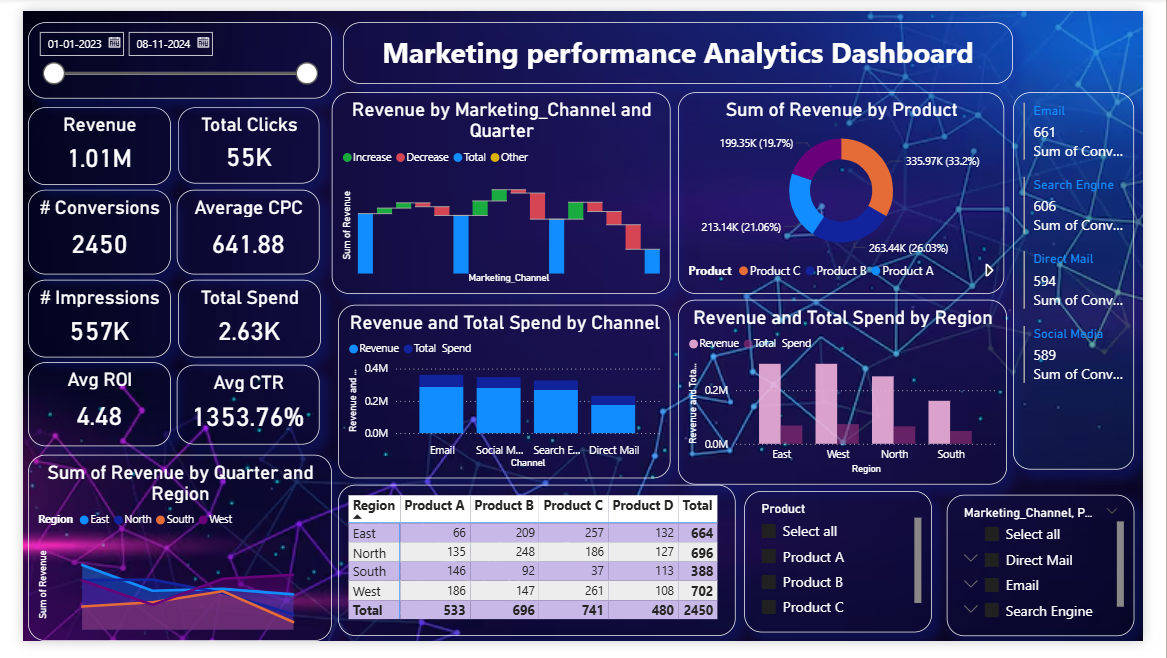

What the dashboard file says about the page in this screenshot:
{"tool":"powerbi","page":{"name":"Page 1","canvas":[1280,720],"ordinal":0},"visuals":[{"type":"card","title":"Total Clicks","fields":{"Values":["Sum(Sheet1.Clicks)"]},"box":[177.1,110,161.4,87.1],"z":0},{"type":"card","title":"# Conversions","fields":{"Values":["Sum(Sheet1.Conversions)"]},"box":[5.7,204.3,162.9,97.1],"z":1000},{"type":"card","title":"Average CPC","fields":{"Values":["Sum(Sheet1.CPC)"]},"box":[175.7,204.3,162.9,97.1],"z":2000},{"type":"card","title":"# Impressions","fields":{"Values":["Sum(Sheet1.Impressions)"]},"box":[5.7,307.1,162.9,88.6],"z":3000},{"type":"card","title":"Revenue","fields":{"Values":["Sum(Sheet1.Revenue)"]},"box":[5.7,110,162.9,88.6],"z":4000},{"type":"card","title":"Total Spend","fields":{"Values":["Avg(Sheet1.Spend)"]},"box":[177.1,307.1,162.9,88.6],"z":5000},{"type":"card","title":"Avg ROI","fields":{"Values":["Avg(Sheet1.ROI)"]},"box":[5.7,401.4,162.9,95.7],"z":6000},{"type":"card","title":"Avg CTR","fields":{"Values":["Sum(Sheet1.CTR)"]},"box":[175.7,404.3,162.9,91.4],"z":7000},{"type":"textbox","box":[365.7,12.9,765.7,70],"z":8000},{"type":"slicer","fields":{"Values":["Sheet1.Date"]},"box":[5.7,12.9,347.1,87.1],"z":9000},{"type":"waterfallChart","title":"Revenue by Marketing_Channel and Quarter","fields":{"Category":["Sheet1.Marketing_Channel"],"Y":["Sum(Sheet1.Revenue)"],"Breakdown":["Sheet1.Quarter"]},"box":[352.9,92.9,387.1,230],"z":10000},{"type":"donutChart","fields":{"Category":["Sheet1.Product"],"Y":["Sum(Sheet1.Revenue)"]},"box":[748.6,92.9,372.9,230],"z":11000},{"type":"columnChart","fields":{"Category":["Sheet1.Marketing_Channel"],"Y":["Sum(Sheet1.Revenue)","Sum(Sheet1.Spend)"]},"box":[360,335.7,380,198.6],"z":12000},{"type":"clusteredColumnChart","fields":{"Category":["Sheet1.Region"],"Y":["Sum(Sheet1.Revenue)","Sum(Sheet1.Spend)"]},"box":[748.6,330,375.7,211.4],"z":13000},{"type":"areaChart","fields":{"Y":["Sum(Sheet1.Revenue)"],"Series":["Sheet1.Region"],"Category":["Sheet1.Date.Variation.Date Hierarchy.Quarter"]},"box":[5.7,507.1,347.1,212.9],"z":14000},{"type":"multiRowCard","fields":{"Values":["Sum(Sheet1.Conversions)","Sheet1.Marketing_Channel"]},"box":[1131.4,92.9,138.6,431.4],"z":15000},{"type":"pivotTable","fields":{"Rows":["Sheet1.Region"],"Columns":["Sheet1.Product"],"Values":["Sum(Sheet1.Conversions)"]},"box":[360,541.4,454.3,172.9],"z":16000},{"type":"slicer","fields":{"Values":["Sheet1.Product"]},"box":[824.3,548.6,214.3,161.4],"z":17000},{"type":"slicer","fields":{"Values":["Sheet1.Marketing_Channel","Sheet1.Product"]},"box":[1055.7,552.9,214.3,161.4],"z":18000}]}

Visuals, with their boxes in screenshot pixels (x1, y1, x2, y2), scaled from the page's 1280x720 canvas onto the 1167x658 screenshot:
"Total Clicks" card: 161, 101, 309, 180
"# Conversions" card: 5, 187, 154, 275
"Average CPC" card: 160, 187, 309, 275
"# Impressions" card: 5, 281, 154, 362
"Revenue" card: 5, 101, 154, 181
"Total Spend" card: 161, 281, 310, 362
"Avg ROI" card: 5, 367, 154, 454
"Avg CTR" card: 160, 369, 309, 453
textbox: 333, 12, 1032, 76
slicer - Sheet1.Date: 5, 12, 322, 91
"Revenue by Marketing_Channel and Quarter" waterfallChart: 322, 85, 675, 295
donutChart - Sheet1.Product x Sum(Sheet1.Revenue): 683, 85, 1022, 295
columnChart - Sheet1.Marketing_Channel x Sum(Sheet1.Revenue): 328, 307, 675, 488
clusteredColumnChart - Sheet1.Region x Sum(Sheet1.Revenue): 683, 302, 1025, 495
areaChart - Sum(Sheet1.Revenue) x Sheet1.Region: 5, 463, 322, 657
multiRowCard - Sum(Sheet1.Conversions) x Sheet1.Marketing_Channel: 1032, 85, 1158, 479
pivotTable - Sheet1.Region x Sheet1.Product: 328, 495, 742, 653
slicer - Sheet1.Product: 752, 501, 947, 649
slicer - Sheet1.Marketing_Channel x Sheet1.Product: 963, 505, 1158, 653
